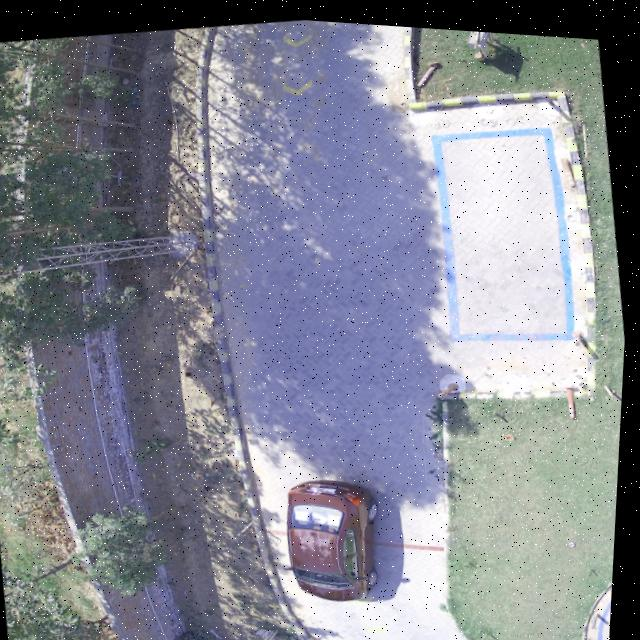car: (292, 473, 384, 595)
